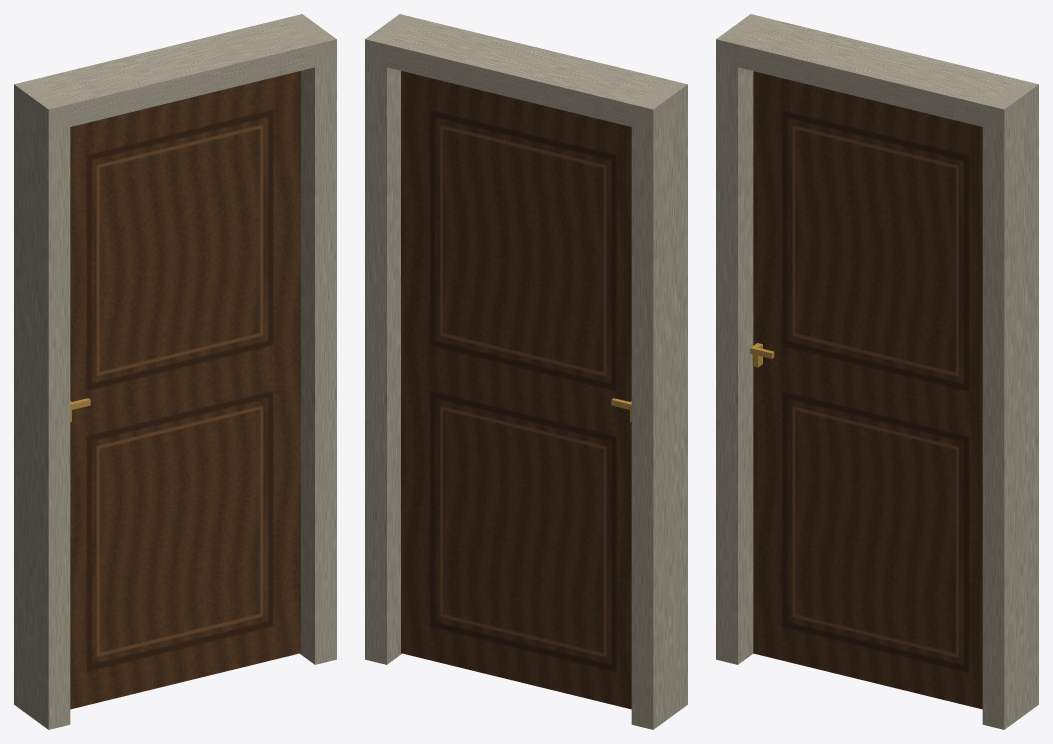
File: SM_DoorWood.fbx
The picture shows the model from 3 angles, left to right: view 1: azimuth 30°, elevation 25°; view 2: azimuth 150°, elevation 25°; view 3: azimuth 330°, elevation 25°; orthographic projection.
Parts seen in each view (by area): view 1: Leaf, SM_DoorWood; view 2: Leaf, SM_DoorWood; view 3: Leaf, SM_DoorWood.
Boxes of the visible parts, x1,y1,x2,y2 form: Leaf: [70, 71, 300, 709]; SM_DoorWood: [14, 14, 336, 729]; Leaf: [401, 71, 631, 709]; SM_DoorWood: [365, 14, 687, 729]; Leaf: [750, 71, 982, 709]; SM_DoorWood: [716, 14, 1038, 729].
Size of the model in its own units: 1.06 by 2.18 by 0.22.
1 material, 1 textured.
